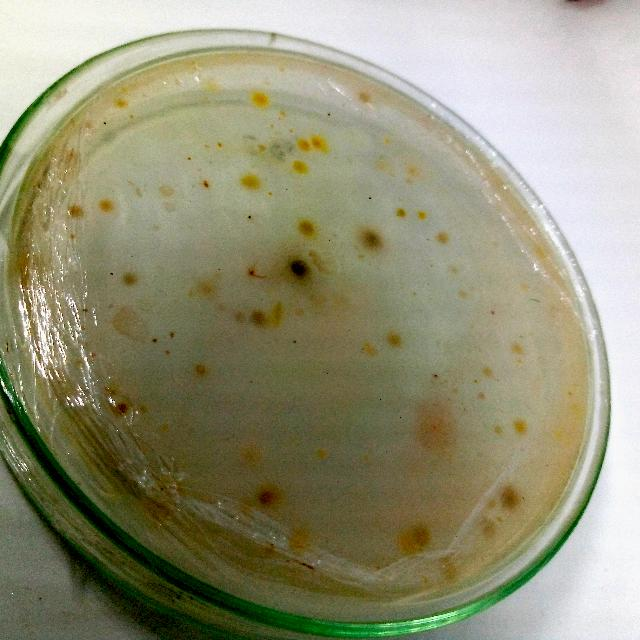colony: (410, 397, 466, 458), (356, 221, 386, 253), (496, 483, 524, 511), (236, 170, 268, 194), (284, 253, 312, 280), (64, 200, 92, 226), (381, 326, 407, 354), (507, 412, 533, 440), (474, 518, 502, 544), (286, 526, 310, 554), (94, 192, 118, 218), (294, 214, 318, 238), (246, 306, 270, 330), (254, 484, 278, 508), (356, 335, 380, 359), (411, 521, 433, 547), (396, 533, 420, 555), (431, 225, 454, 247), (194, 278, 216, 300), (288, 156, 310, 176), (120, 269, 140, 291), (111, 91, 131, 111), (508, 338, 528, 358), (192, 357, 210, 379), (158, 181, 180, 199), (308, 134, 328, 152), (249, 90, 269, 108), (354, 87, 374, 105), (294, 137, 314, 153), (211, 137, 231, 153), (402, 160, 422, 176), (197, 177, 216, 193), (478, 364, 497, 380), (114, 399, 130, 417), (458, 286, 474, 304), (310, 446, 328, 462), (394, 204, 411, 220), (276, 104, 292, 120), (232, 307, 248, 323), (76, 302, 92, 316), (491, 424, 507, 438), (475, 389, 489, 405), (164, 328, 178, 342), (428, 368, 442, 382), (494, 512, 508, 526), (182, 152, 198, 164), (240, 212, 256, 224), (414, 208, 426, 224), (322, 107, 336, 119), (487, 498, 501, 510), (264, 187, 276, 200), (246, 266, 258, 278), (148, 334, 160, 346), (98, 119, 112, 128), (66, 232, 78, 242), (488, 306, 498, 318), (513, 358, 525, 367), (106, 268, 116, 278), (257, 143, 269, 151), (287, 128, 295, 134), (269, 124, 275, 128)
